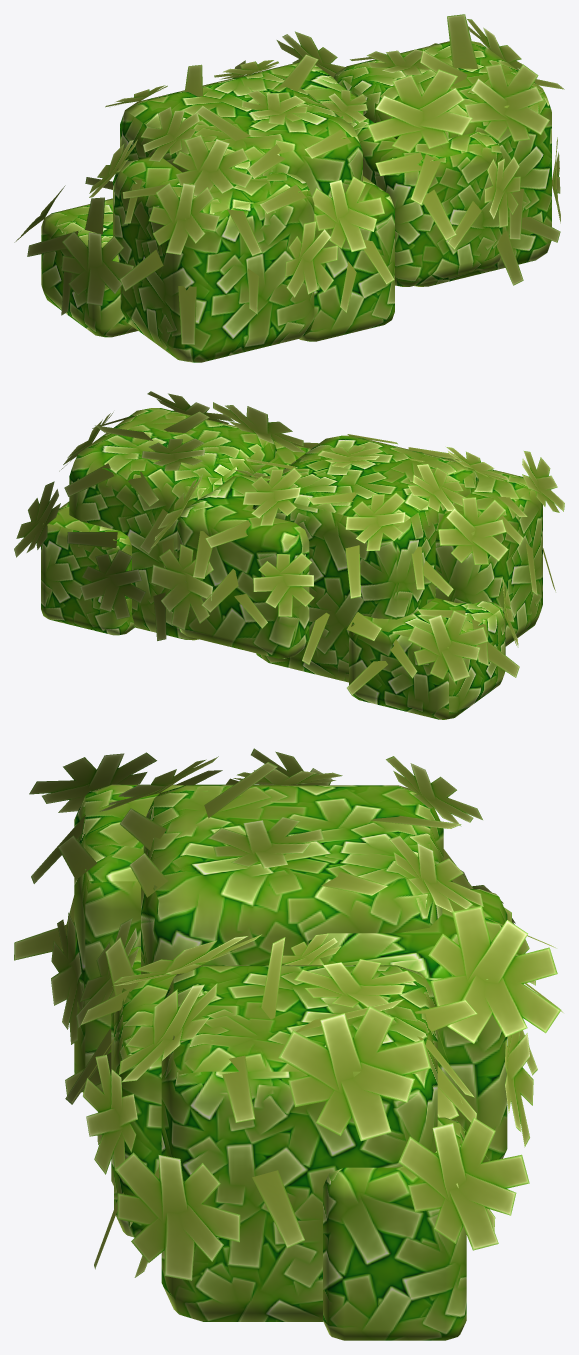
Rendered from SM_Bush_01_C.fbx.
The picture shows the model from 3 angles, top to bottom: view 1: azimuth 30°, elevation 25°; view 2: azimuth 150°, elevation 25°; view 3: azimuth 270°, elevation 25°; orthographic projection. The views are drawn at different scales.
Visible parts, largest first — view 1: polySurface623; view 2: polySurface623; view 3: polySurface623.
Boxes of the visible parts, x1=… form: polySurface623: x1=14, y1=14, x2=564, y2=362; polySurface623: x1=14, y1=391, x2=564, y2=719; polySurface623: x1=14, y1=748, x2=563, y2=1340.
Bounding box in the file's own units: 105 × 44.35 × 65.31.
